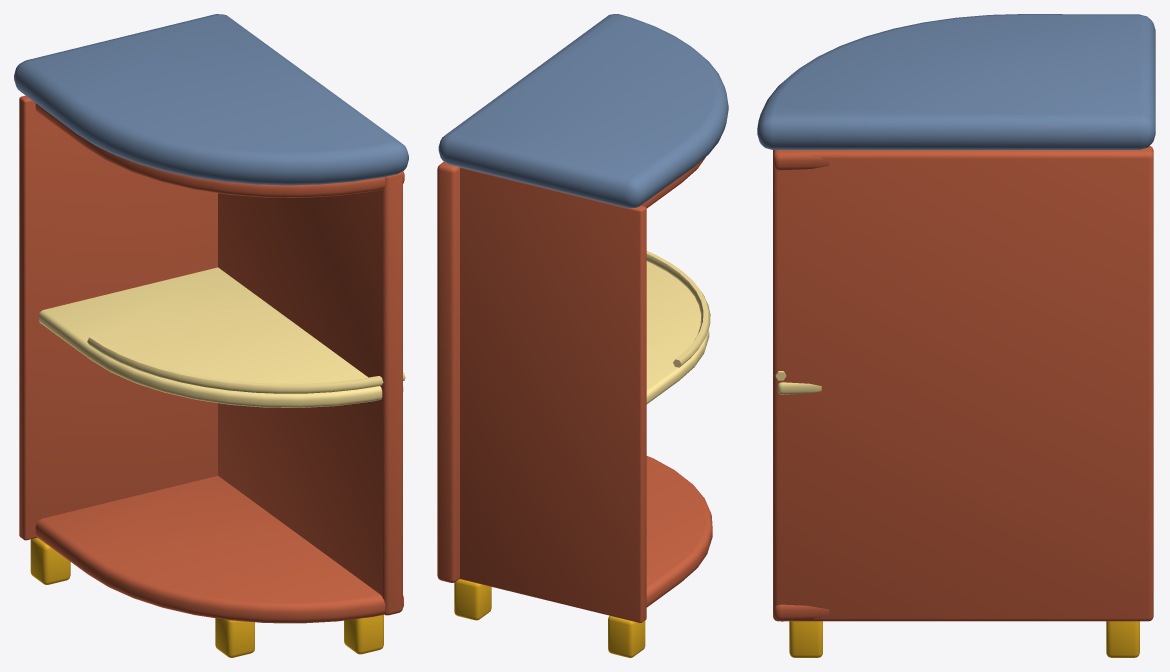
File: armario_cozinha_ponta_curva_classica.glb
3 views of the same model, side by side, from view 1: azimuth 30°, elevation 25°; view 2: azimuth 150°, elevation 25°; view 3: azimuth 270°, elevation 25° (orthographic). The views are drawn at different scales.
Visible parts, largest first — view 1: armario_cozinha_ponta_curva_classica; view 2: armario_cozinha_ponta_curva_classica; view 3: armario_cozinha_ponta_curva_classica.
Boxes of the visible parts, x1=… form: armario_cozinha_ponta_curva_classica: x1=14, y1=14, x2=408, y2=657; armario_cozinha_ponta_curva_classica: x1=437, y1=14, x2=728, y2=657; armario_cozinha_ponta_curva_classica: x1=757, y1=14, x2=1155, y2=657.
Bounding box in the file's own units: 0.4009 × 0.9 × 0.5964.
1 material, 1 textured.
